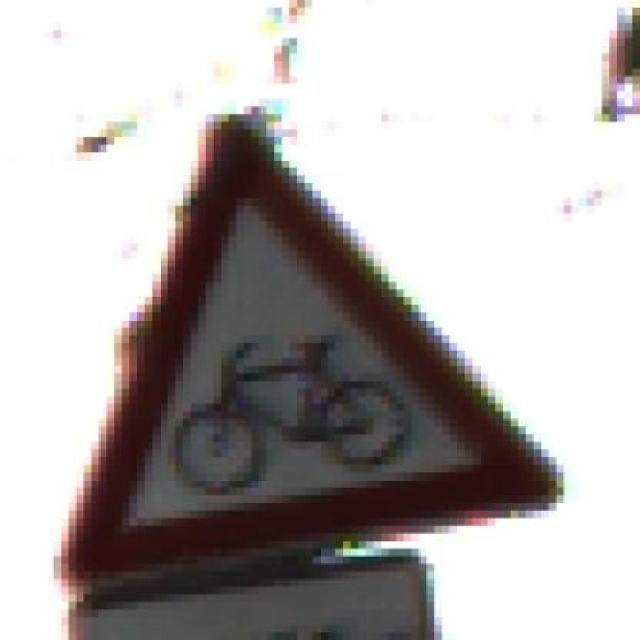CYCLE ROUTE AHEAD WARNING: (38, 115, 572, 579)
